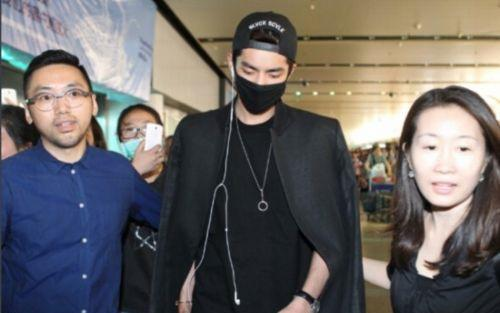NONE: (417, 132, 481, 203), (29, 84, 93, 147)
OK: (235, 58, 292, 115)
WRONG: (121, 120, 165, 165)
